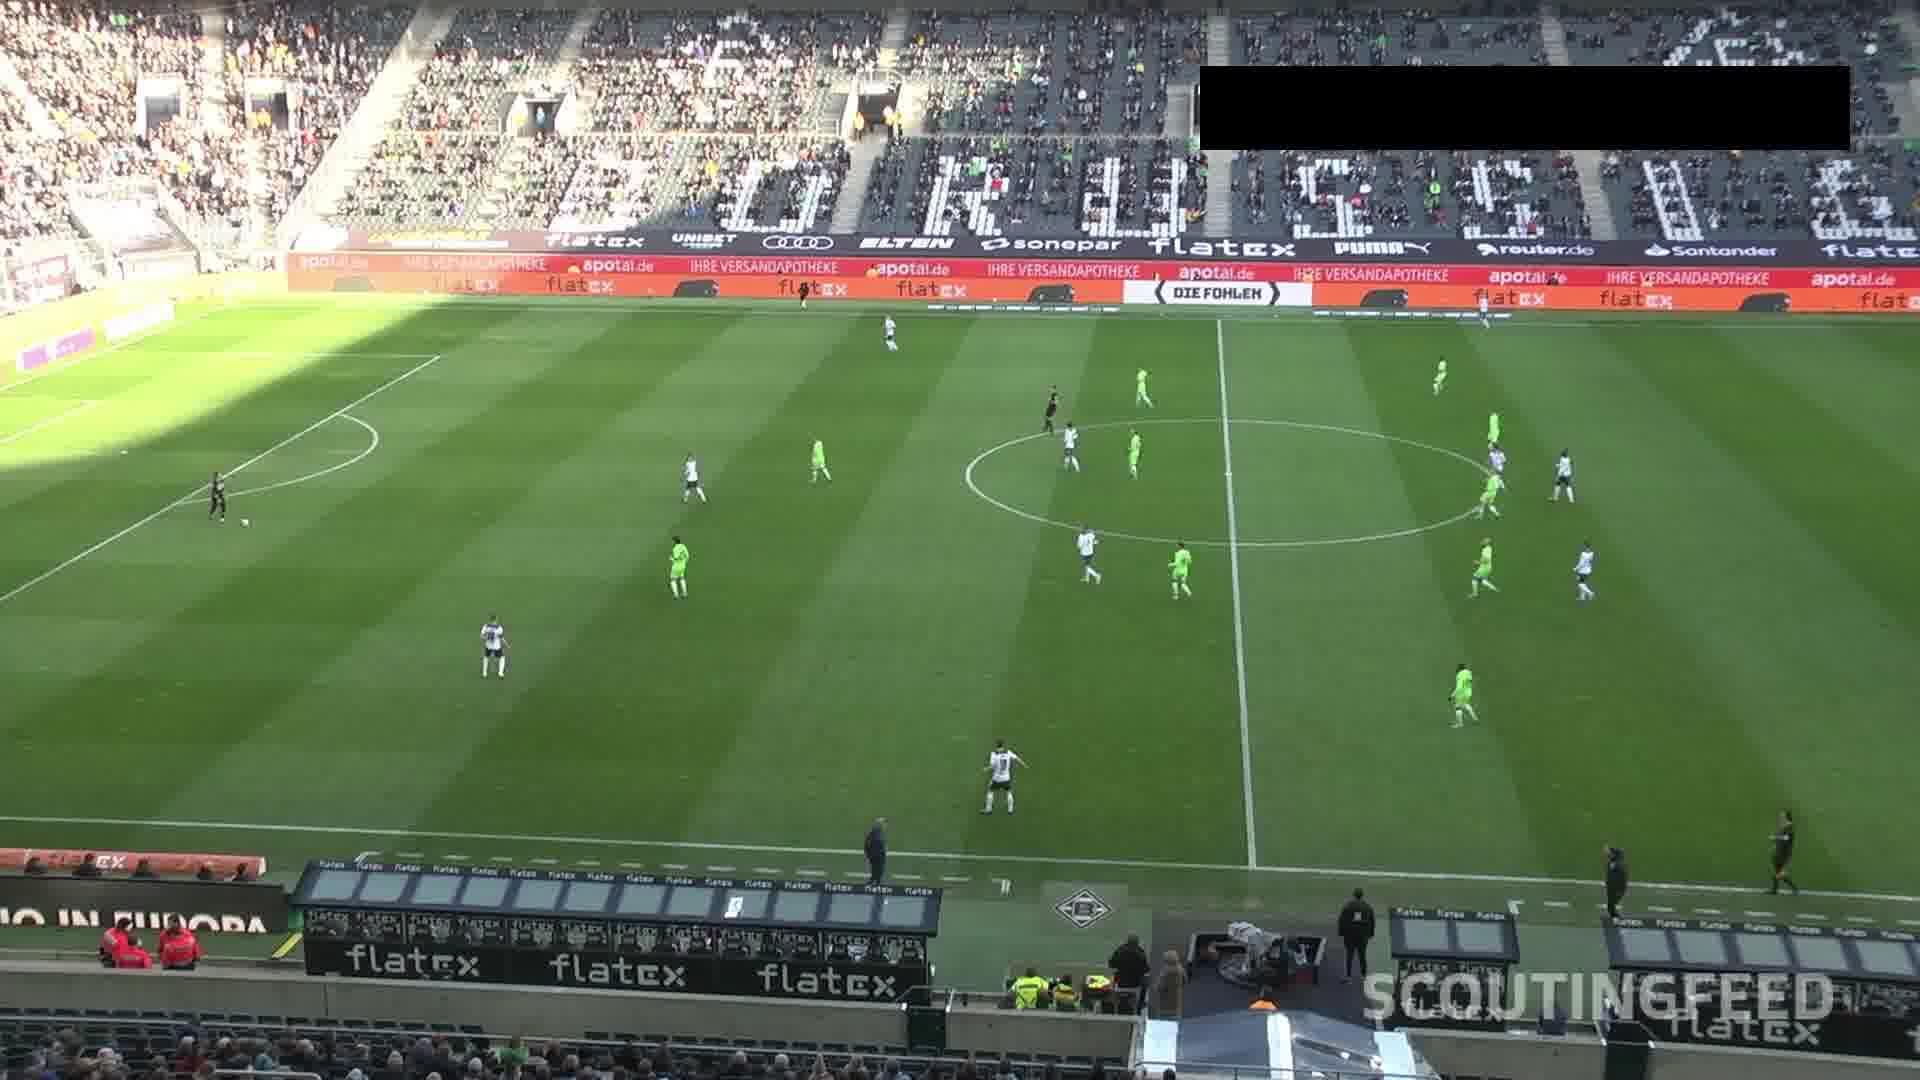football: (240, 518, 249, 527)
